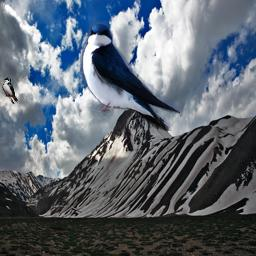Swallow: (80, 21, 180, 131), (2, 77, 18, 104)
